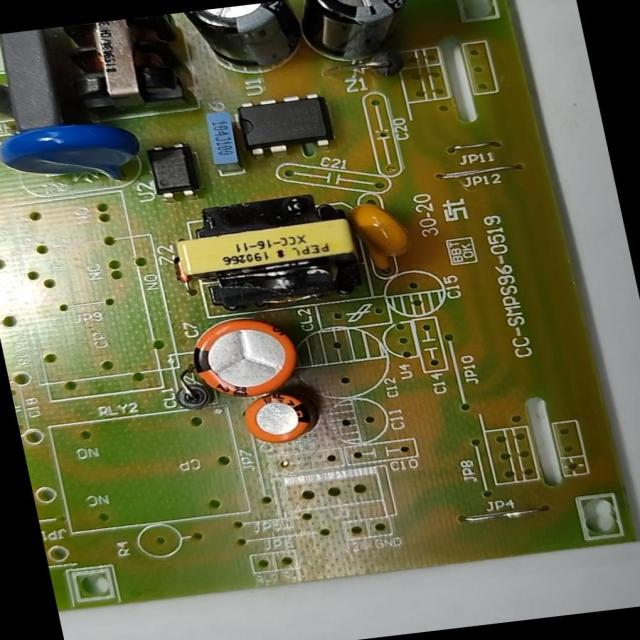Cap1: (179, 307, 310, 407)
Cap2: (233, 383, 324, 451)
Cap3: (177, 0, 312, 82)
Cap4: (290, 0, 432, 76)
MOSFET: (225, 84, 344, 164)
Mov: (0, 114, 154, 197)
Resistor: (0, 67, 24, 128)
Transformer: (164, 186, 373, 320), (55, 13, 202, 122)
